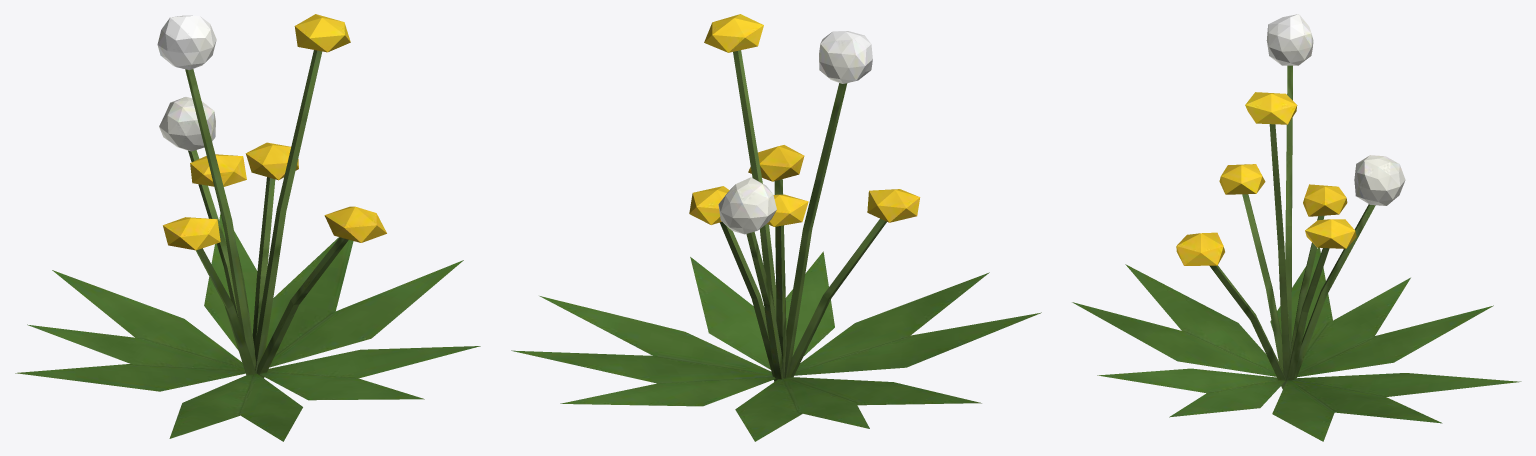
File: flowers_dandelion_idle.glb
The picture shows the model from 3 angles, left to right: view 1: azimuth 30°, elevation 25°; view 2: azimuth 150°, elevation 25°; view 3: azimuth 270°, elevation 25°; orthographic projection. The views are drawn at different scales.
Visible parts, largest first — view 1: flowers_dandelion; view 2: flowers_dandelion; view 3: flowers_dandelion.
Boxes of the visible parts, left/top/right/bottom form: flowers_dandelion: left=15, top=14, right=480, bottom=441; flowers_dandelion: left=511, top=14, right=1041, bottom=441; flowers_dandelion: left=1072, top=14, right=1521, bottom=441.
Bounding box in the file's own units: 0.3645 × 0.2969 × 0.3511.
1 material, 1 textured.
